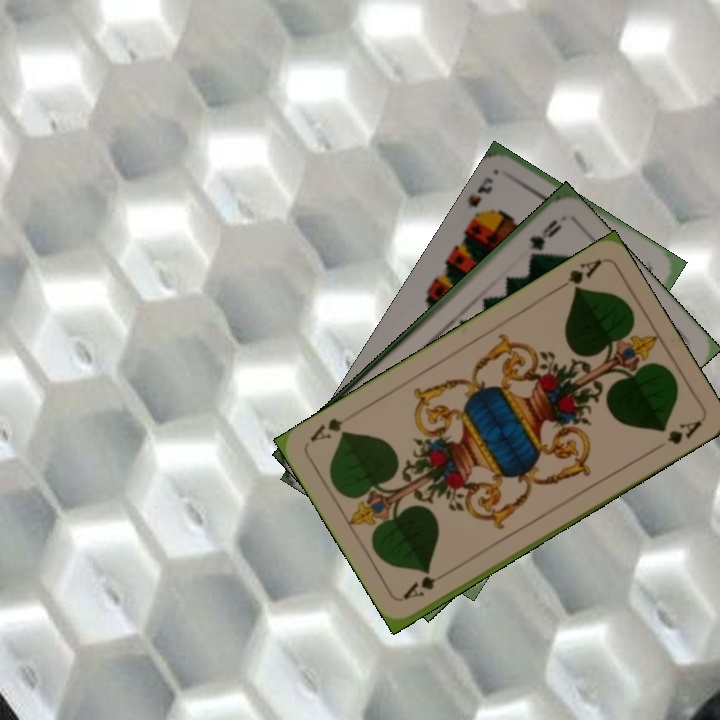G9: (525, 215, 565, 261)
GA: (551, 255, 604, 295), (399, 568, 454, 602)
S9: (463, 173, 496, 220)
